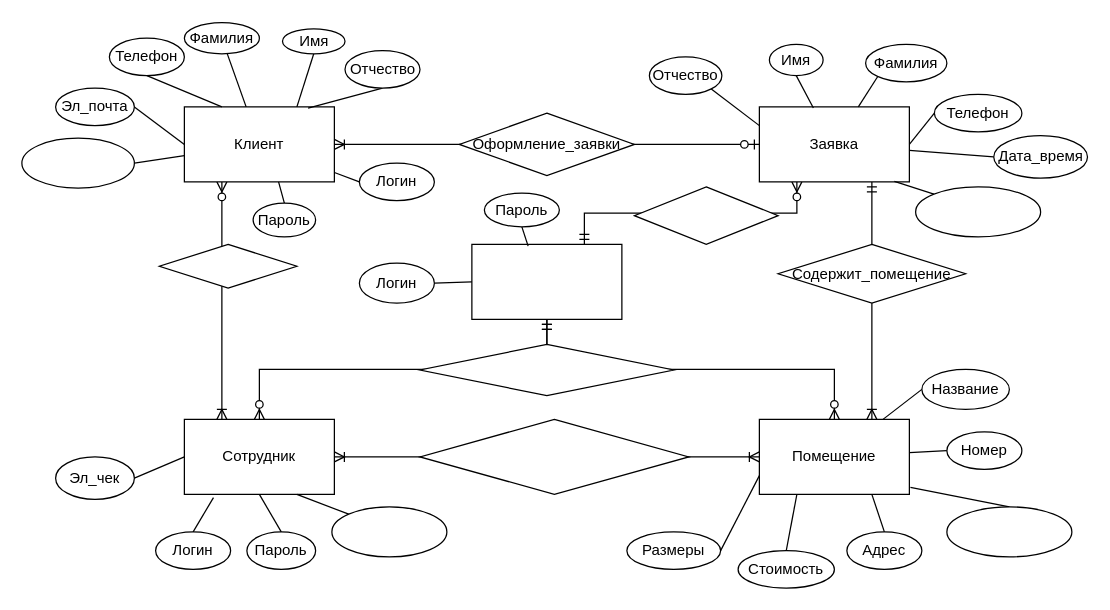
Image size: 1110x610. Some labels were removed from this diagram. The shapes that lost their labels are listed below. From the top down, each one's centre as x and y in pixels, then its label:
At (77,162): "Дата_рождения".
At (705,215): "Просмотр_заявок".
At (977,211): "Название(номер)".
At (227,265): "Запись_клиента".
At (546,281): "Администратор".
At (546,369): "Управляет".
At (554,456): "Просмотр_помещений".
At (389,531): "Фото_профиля".
At (1009,531): "Вместительность".
